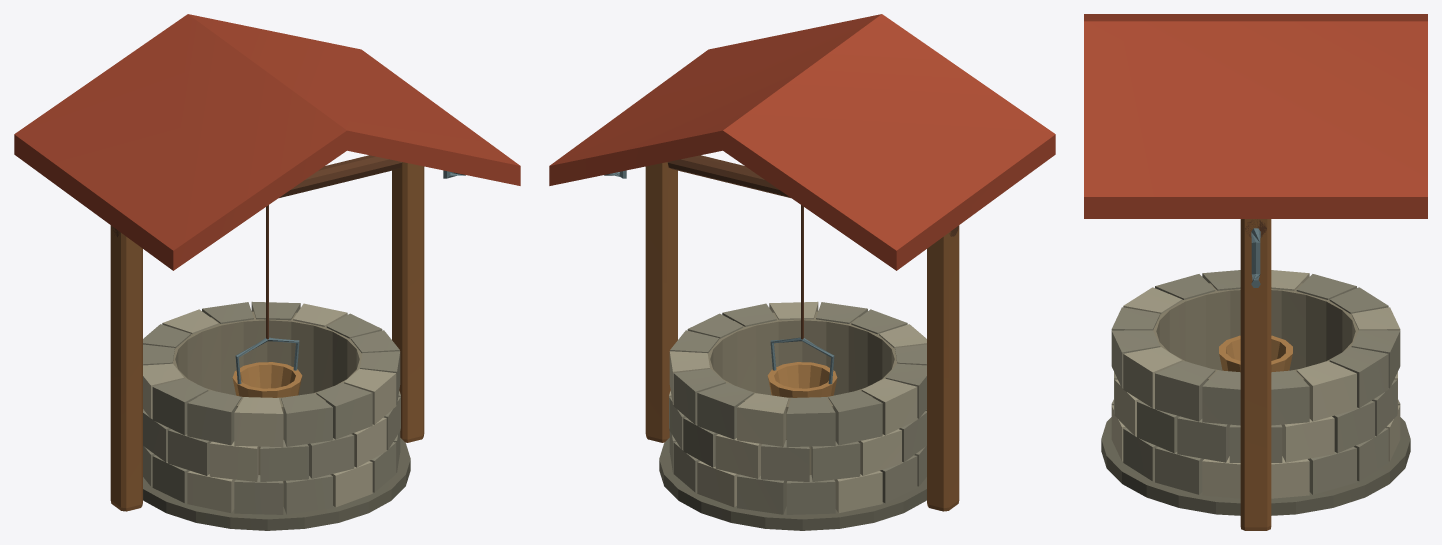
File: Prop_Rural_RoofedWell_001.glb
3 renders of one model, left to right at view 1: azimuth 30°, elevation 25°; view 2: azimuth 150°, elevation 25°; view 3: azimuth 270°, elevation 25°, orthographic. The views are drawn at different scales.
Parts seen in each view (by area): view 1: RU_RoofedWell_Body; view 2: RU_RoofedWell_Body; view 3: RU_RoofedWell_Body.
Boxes of the visible parts, left/top/right/bottom form: RU_RoofedWell_Body: left=14, top=14, right=520, bottom=530; RU_RoofedWell_Body: left=549, top=14, right=1055, bottom=530; RU_RoofedWell_Body: left=1084, top=14, right=1427, bottom=530.
Size of the model in its own units: 2.69 by 2.76 by 2.
